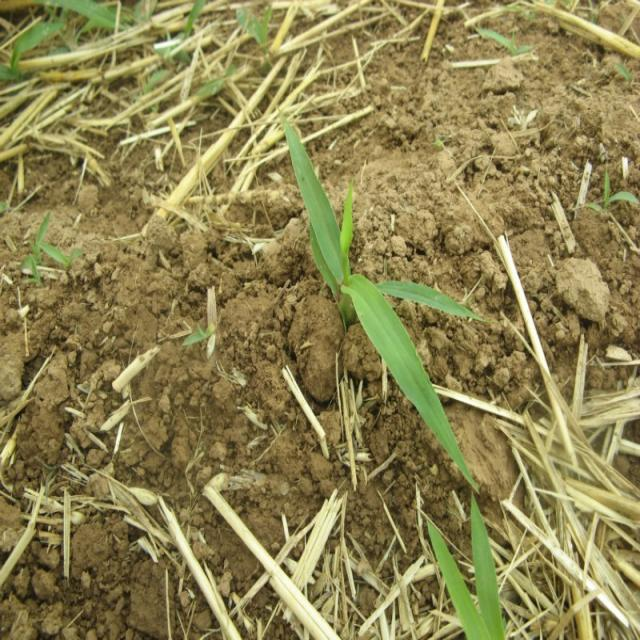bg: (282, 120, 486, 490)
